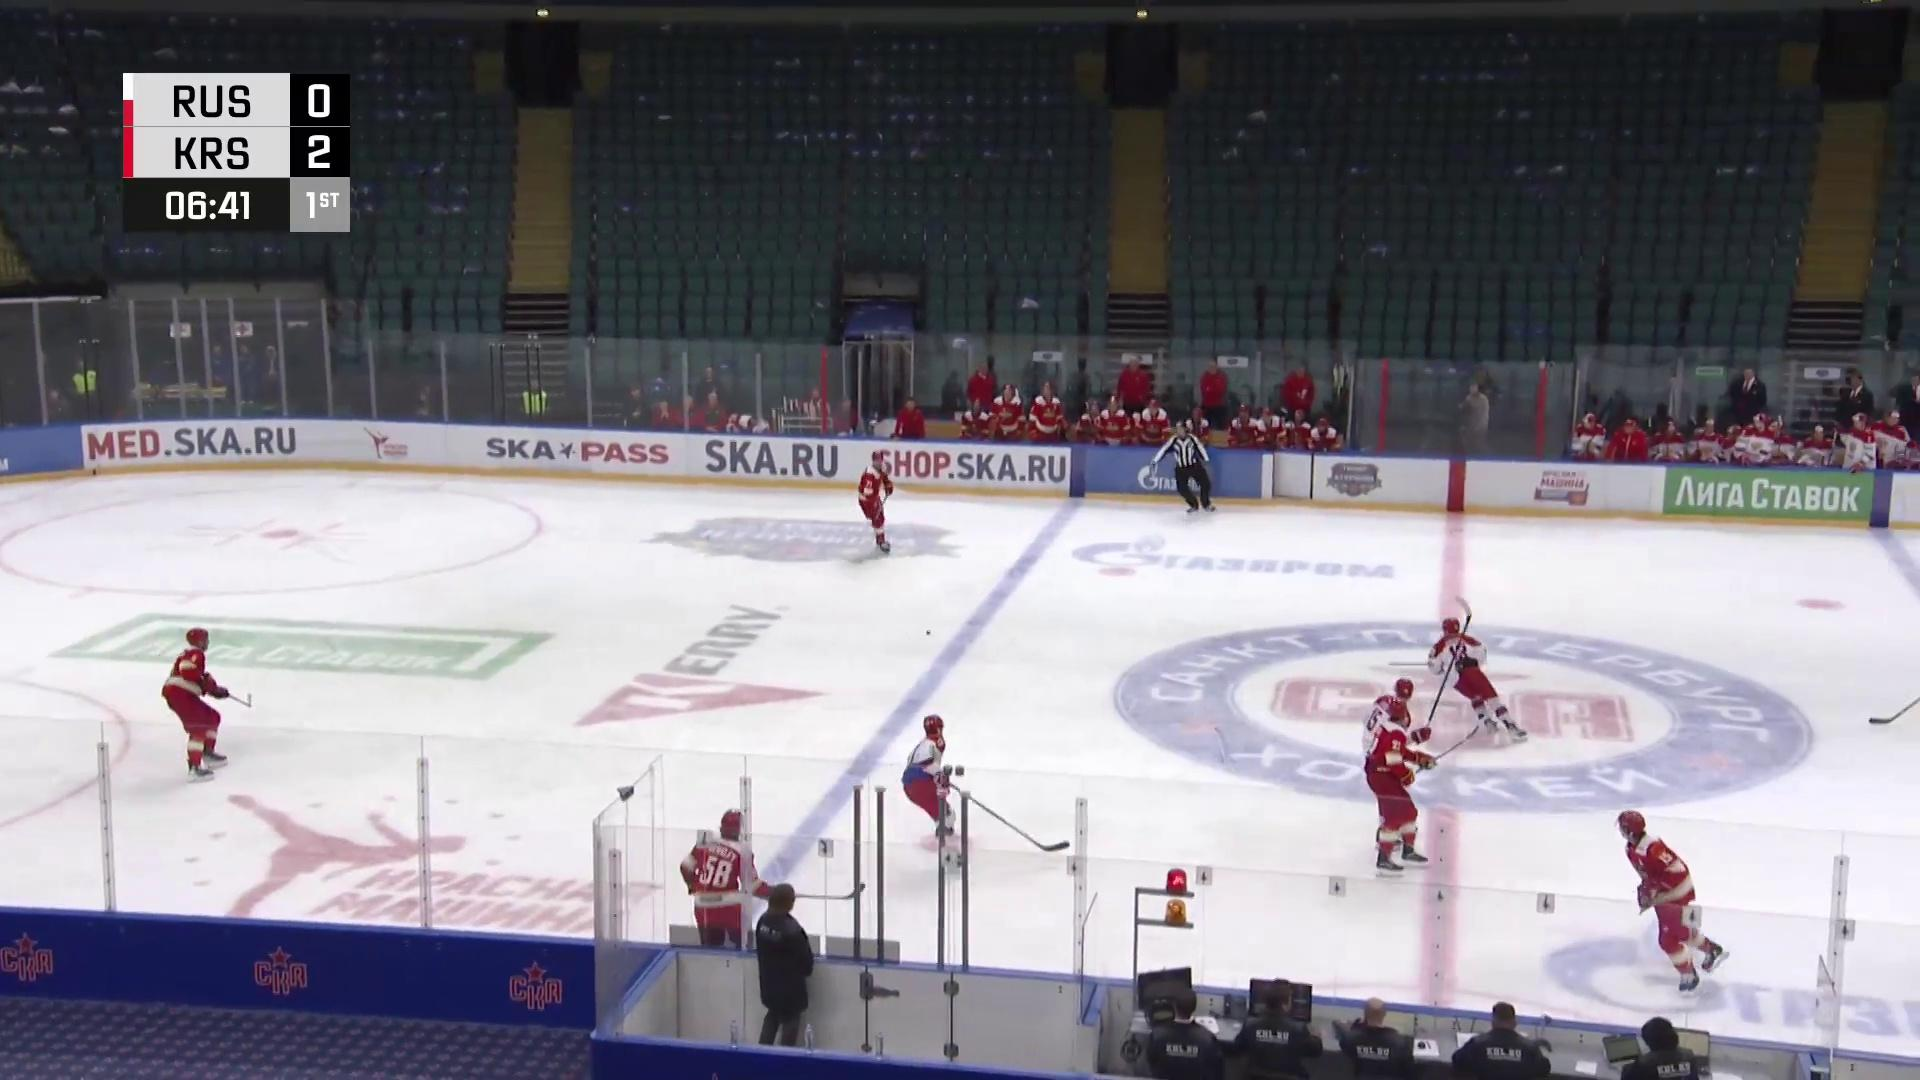ball: (923, 629, 935, 637)
